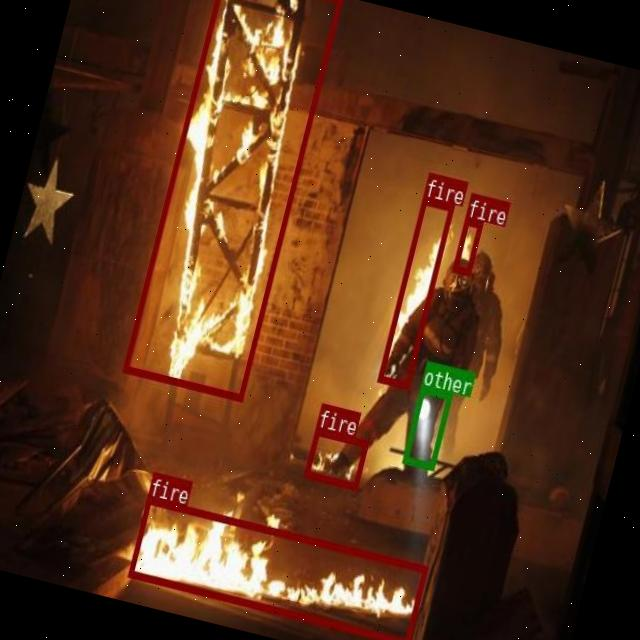fire: (121, 0, 342, 400), (127, 495, 428, 640), (376, 195, 454, 387), (303, 427, 367, 488), (451, 216, 482, 274)
